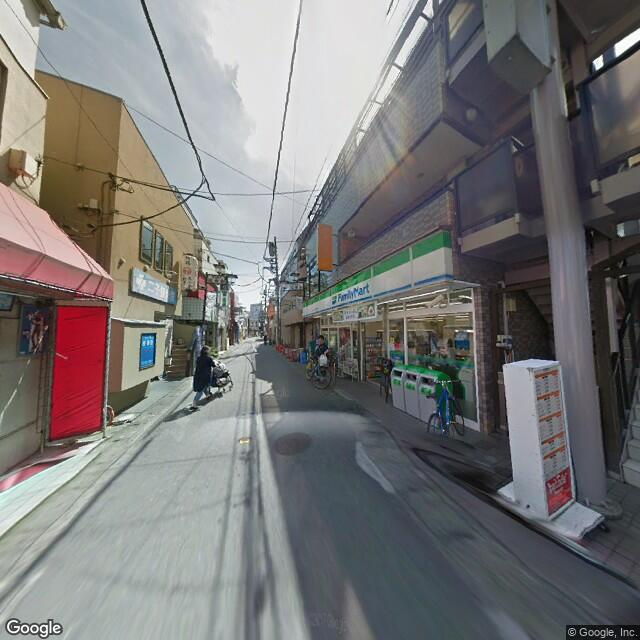family_mart: (297, 229, 454, 319)
